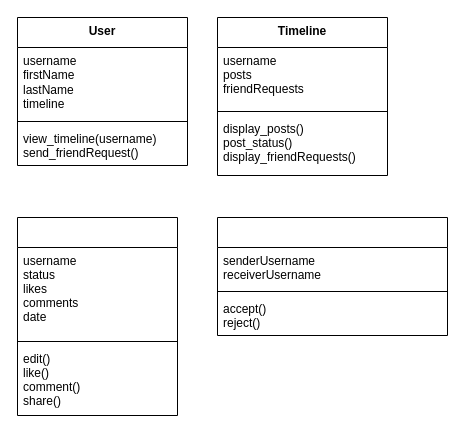
The diagram is 465 pixels wide and 436 high, and some of its shapes have lost their labels. Here are the shapes that lost their labels. From the top down, the box of each, then its label:
(216, 216, 448, 336): Friend Request
(16, 216, 178, 416): Post
